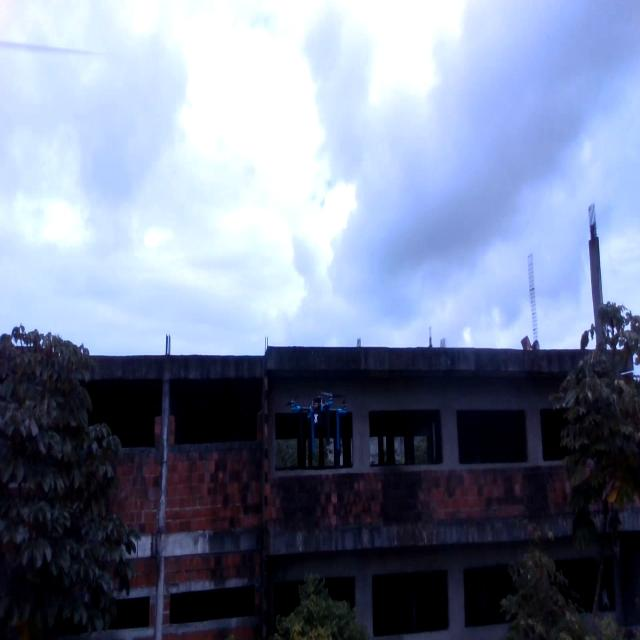-uav-: (285, 378, 360, 463)
